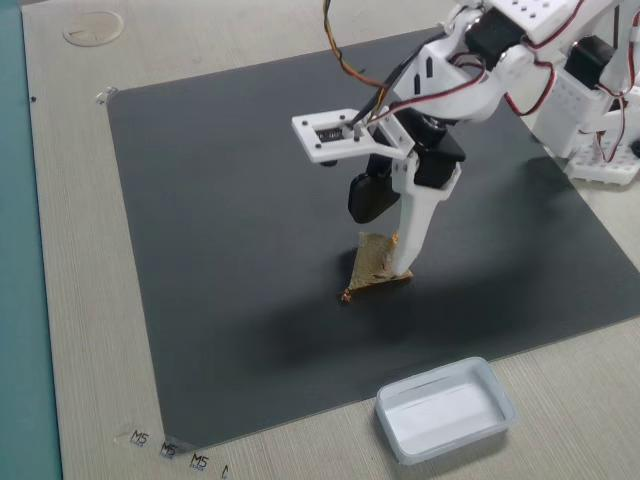gripper: (326, 107, 460, 270)
